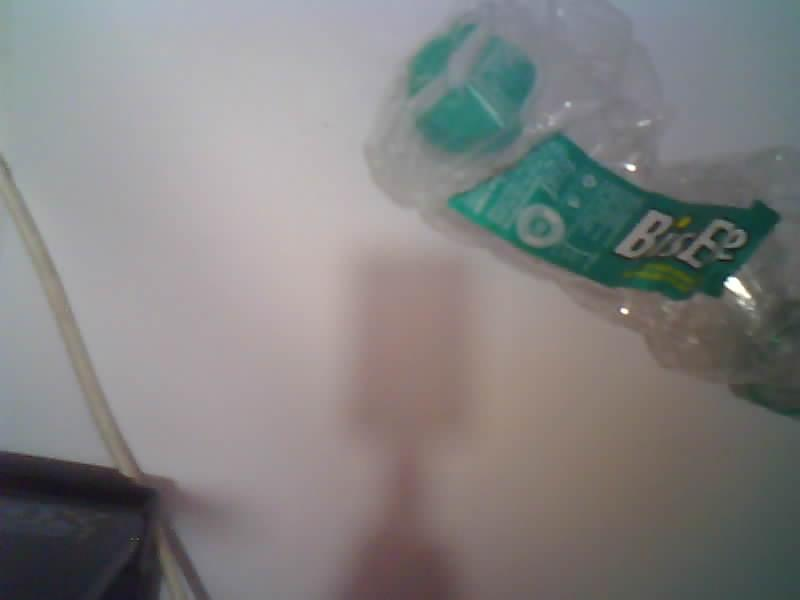non-biodegradable: (366, 0, 799, 413)
